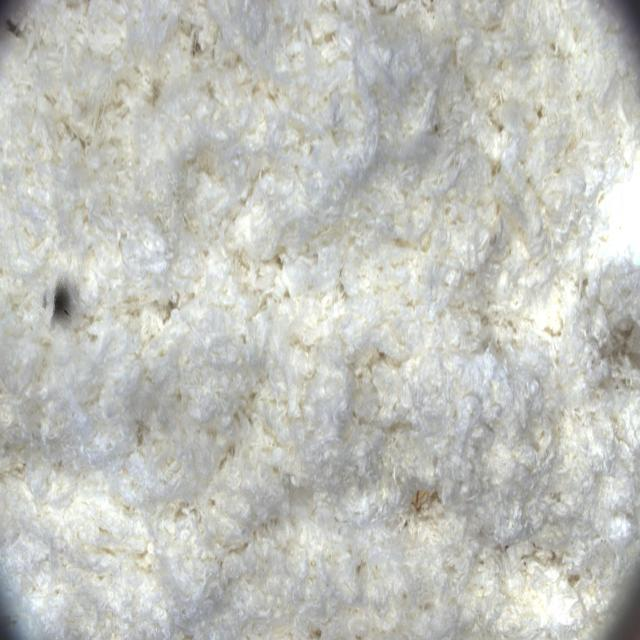dust: (31, 261, 98, 343)
